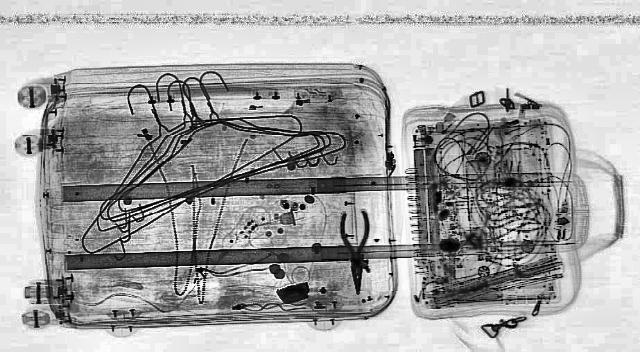Pliers: (339, 210, 373, 294)
